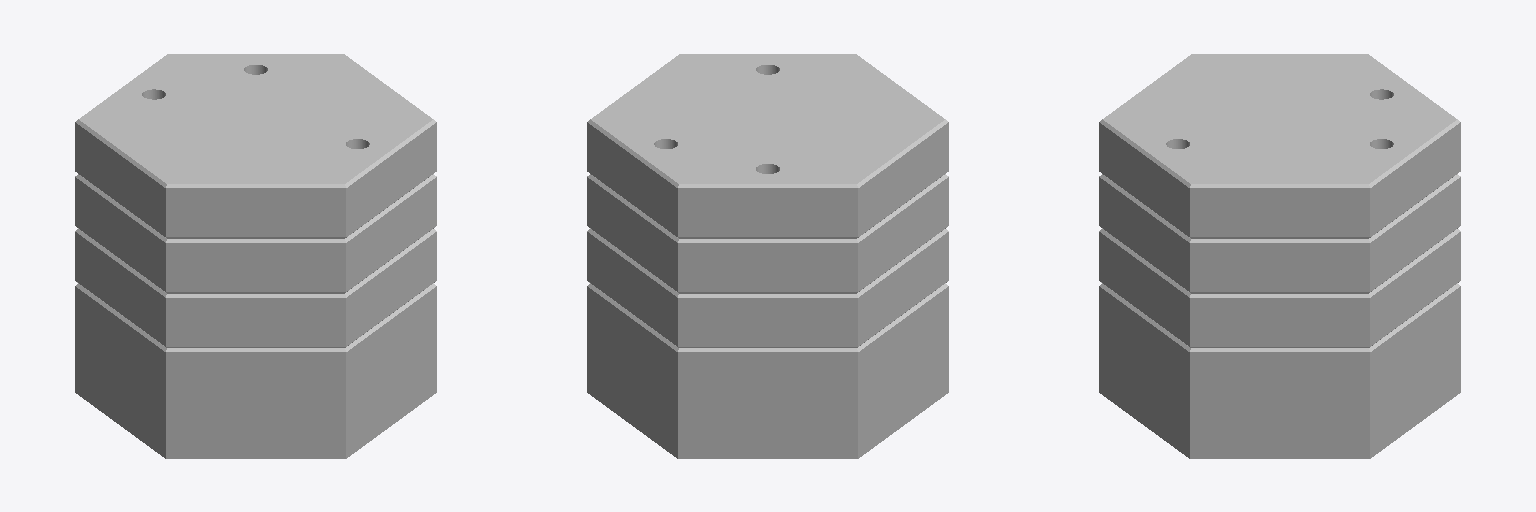
The model's file is lvl4D.obj.
3 views of the same model, side by side, from view 1: azimuth 30°, elevation 25°; view 2: azimuth 150°, elevation 25°; view 3: azimuth 270°, elevation 25° (orthographic).
Visible parts, largest first — view 1: Lvl4D-3_(Mono-NoMags); view 2: Lvl4D-3_(Mono-NoMags); view 3: Lvl4D-3_(Mono-NoMags).
Boxes of the visible parts, <box> form: Lvl4D-3_(Mono-NoMags): <box>75,54,436,458</box>; Lvl4D-3_(Mono-NoMags): <box>587,54,948,458</box>; Lvl4D-3_(Mono-NoMags): <box>1099,54,1460,458</box>.
Size of the model in its own units: 3.13 by 3.02 by 3.62.